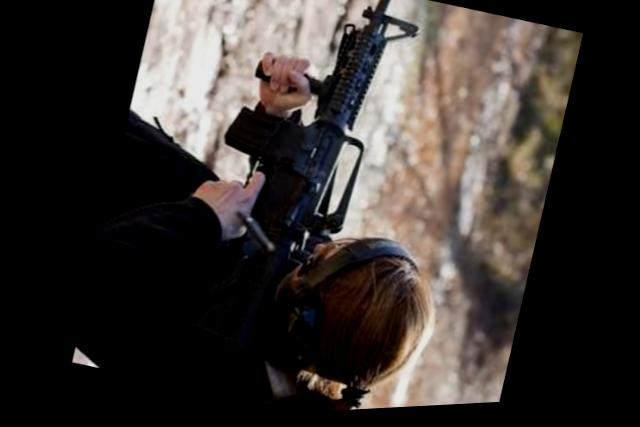rifle: (145, 0, 448, 405)
